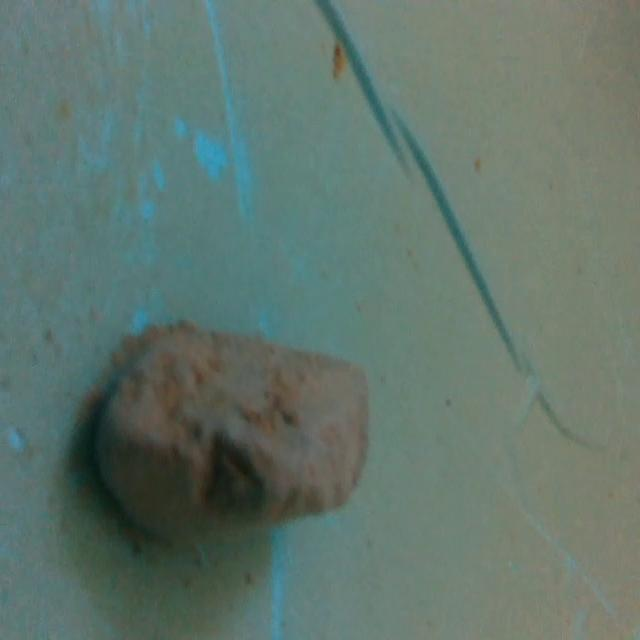rock: (87, 312, 373, 564)
